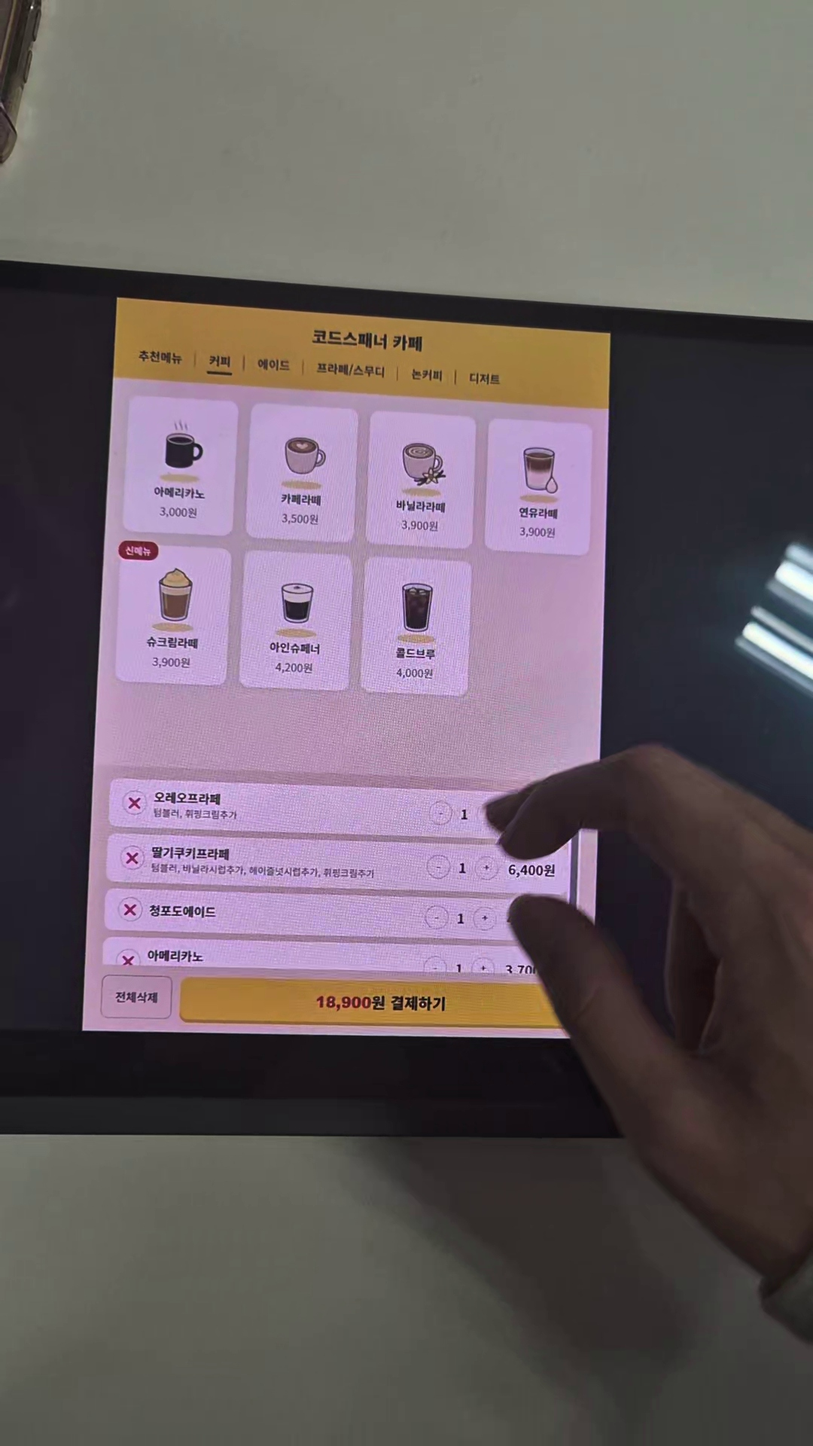action_button: (180, 977, 567, 1028), (102, 975, 172, 1018)
cart_item: (109, 779, 567, 841), (106, 834, 567, 894), (104, 888, 563, 941), (102, 937, 564, 975)
category_tab: (314, 359, 387, 381), (135, 345, 186, 368), (255, 356, 295, 374), (409, 367, 446, 384), (467, 370, 502, 387), (208, 352, 234, 369)
menu_back: (115, 540, 232, 685), (122, 396, 238, 536), (239, 550, 352, 691), (245, 403, 358, 543), (360, 557, 471, 696), (366, 411, 476, 549), (485, 419, 593, 555)
menu_name: (152, 484, 207, 501), (394, 498, 447, 515), (145, 635, 200, 651), (269, 640, 322, 656), (394, 645, 437, 661), (280, 492, 323, 507), (518, 506, 559, 520)
menu_price: (157, 505, 198, 520), (151, 655, 192, 670), (273, 660, 314, 675), (400, 518, 440, 533), (395, 666, 435, 680), (281, 512, 320, 526), (518, 526, 556, 539)
